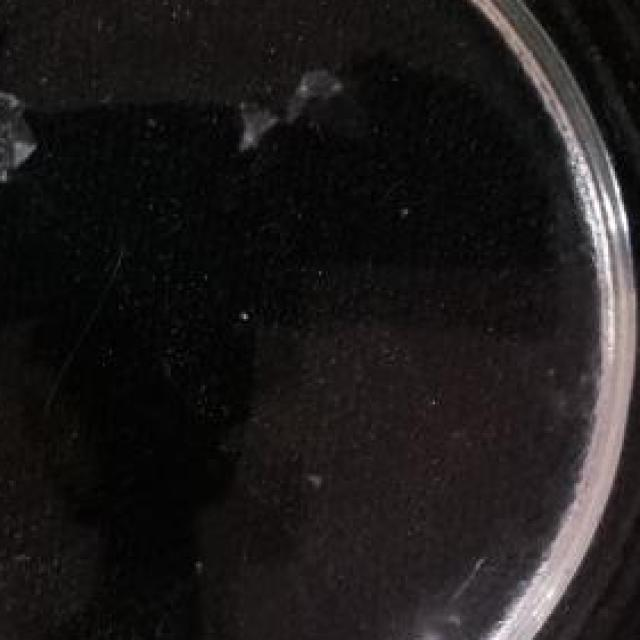Microplastic: (214, 43, 358, 193), (0, 62, 57, 207)
